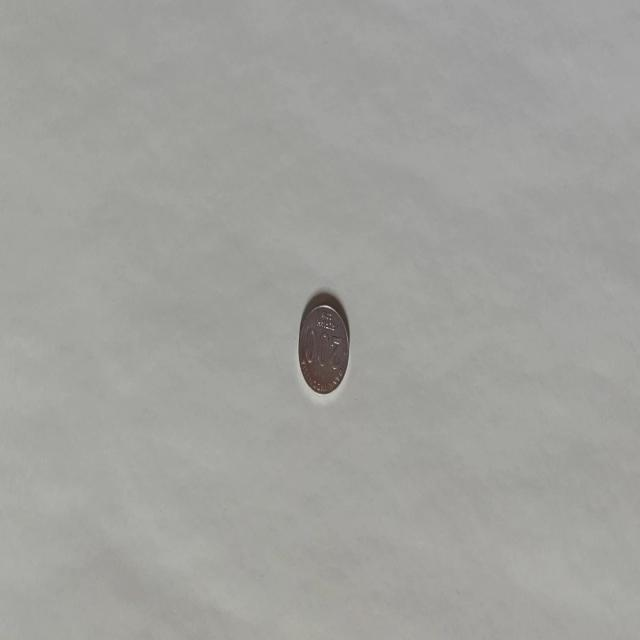dua ratus rupiah: (298, 300, 350, 396)
